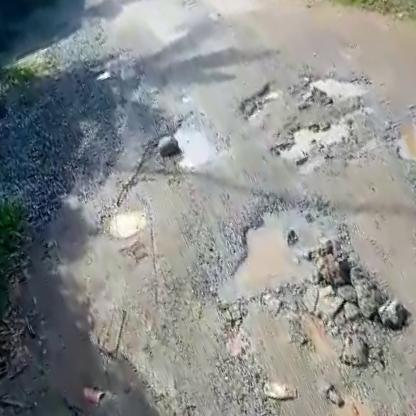pothole: (188, 170, 378, 327), (262, 101, 354, 172), (300, 57, 372, 117), (164, 110, 221, 172), (97, 193, 156, 245), (231, 78, 286, 125)
